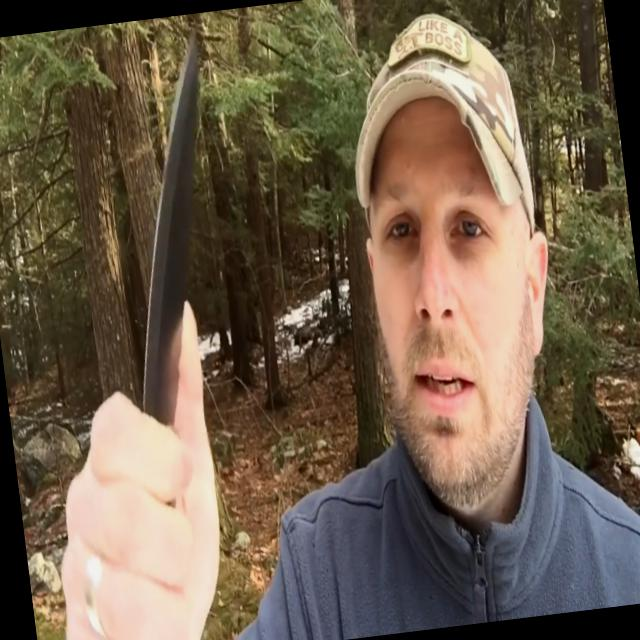knife: (18, 19, 266, 524)
